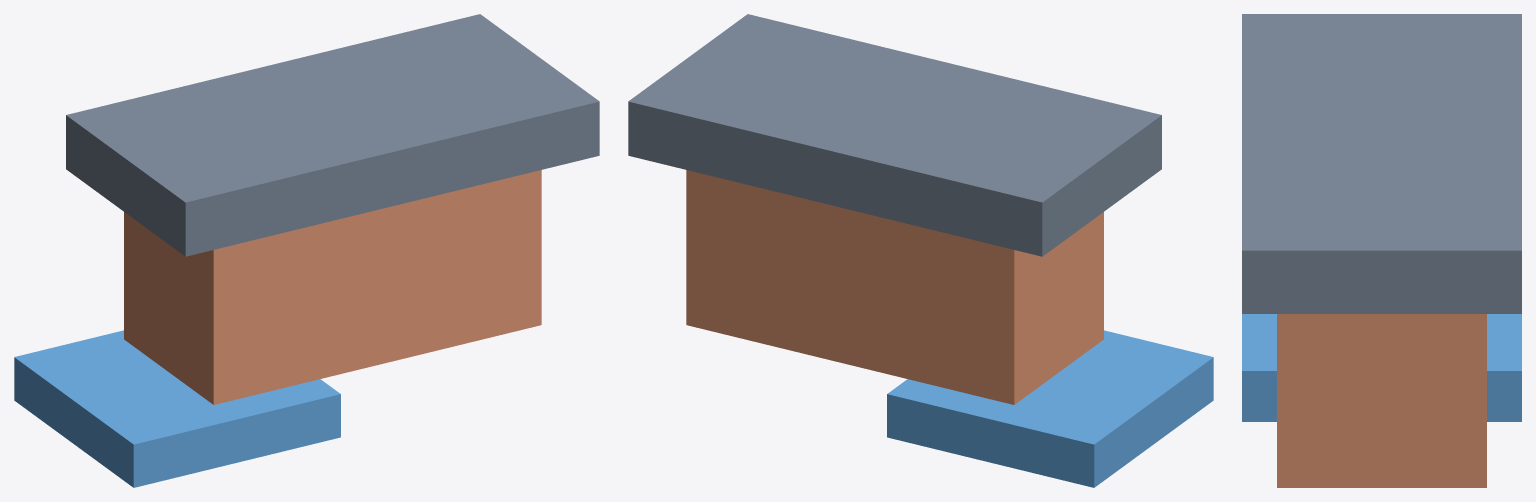
The model's file is brick_masonry_compressive_water_absorption.glb.
The picture shows the model from 3 angles, left to right: view 1: azimuth 30°, elevation 25°; view 2: azimuth 150°, elevation 25°; view 3: azimuth 270°, elevation 25°; orthographic projection. The views are drawn at different scales.
Parts seen in each view (by area): view 1: CompressionMachinePlatens, ModularClayBrickSpecimen, DigitalElectronicScale; view 2: CompressionMachinePlatens, ModularClayBrickSpecimen, DigitalElectronicScale; view 3: CompressionMachinePlatens, ModularClayBrickSpecimen, DigitalElectronicScale.
Part boxes in pixels (x1,y1,x2,y2): CompressionMachinePlatens: [66, 14, 599, 256]; ModularClayBrickSpecimen: [124, 170, 541, 404]; DigitalElectronicScale: [14, 330, 340, 487]; CompressionMachinePlatens: [628, 14, 1161, 256]; ModularClayBrickSpecimen: [686, 170, 1103, 404]; DigitalElectronicScale: [887, 330, 1213, 487]; CompressionMachinePlatens: [1242, 14, 1521, 313]; ModularClayBrickSpecimen: [1277, 314, 1486, 487]; DigitalElectronicScale: [1242, 314, 1521, 421].
Size of the model in its own units: 1.35 by 0.755 by 0.6.
